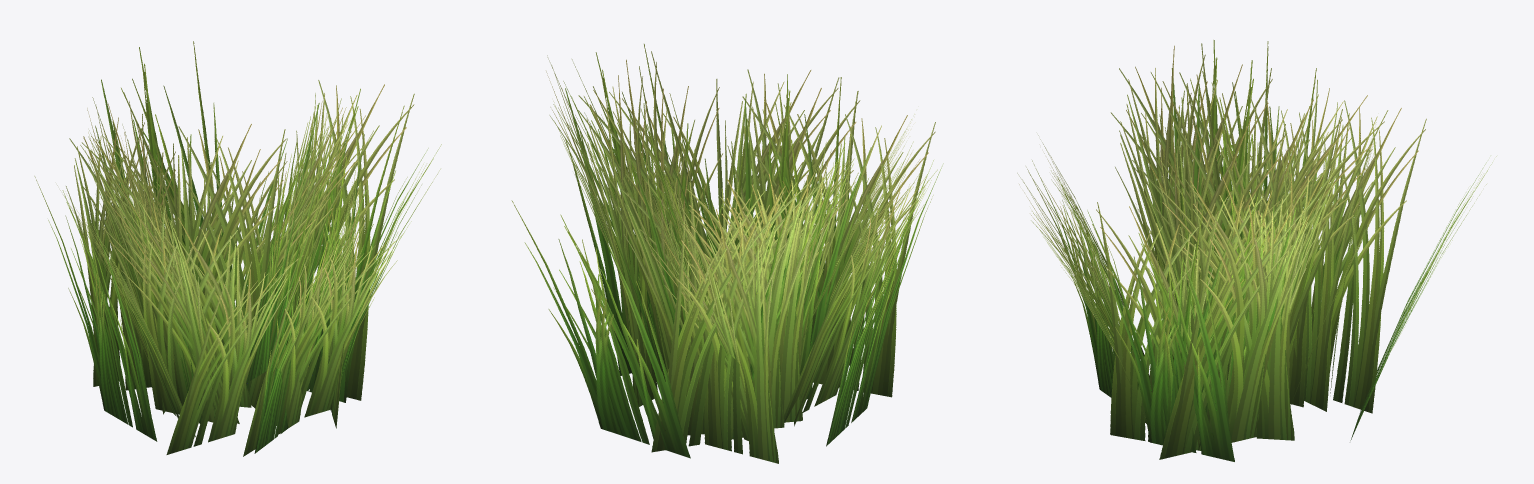
The model's file is Grass_TallHiding_C.fbx.
3 views of the same model, side by side, from view 1: azimuth 30°, elevation 25°; view 2: azimuth 150°, elevation 25°; view 3: azimuth 270°, elevation 25° (orthographic). The views are drawn at different scales.
Visible parts, largest first — view 1: Grass_TallHiding_C_LOD0; view 2: Grass_TallHiding_C_LOD0; view 3: Grass_TallHiding_C_LOD0.
Part boxes in pixels (left/top/right/bottom): Grass_TallHiding_C_LOD0: left=34, top=41, right=441, bottom=456; Grass_TallHiding_C_LOD0: left=511, top=44, right=943, bottom=463; Grass_TallHiding_C_LOD0: left=1017, top=40, right=1496, bottom=461.
Size of what is drawn, in the model's own units: 1.65 by 1.16 by 1.77.
